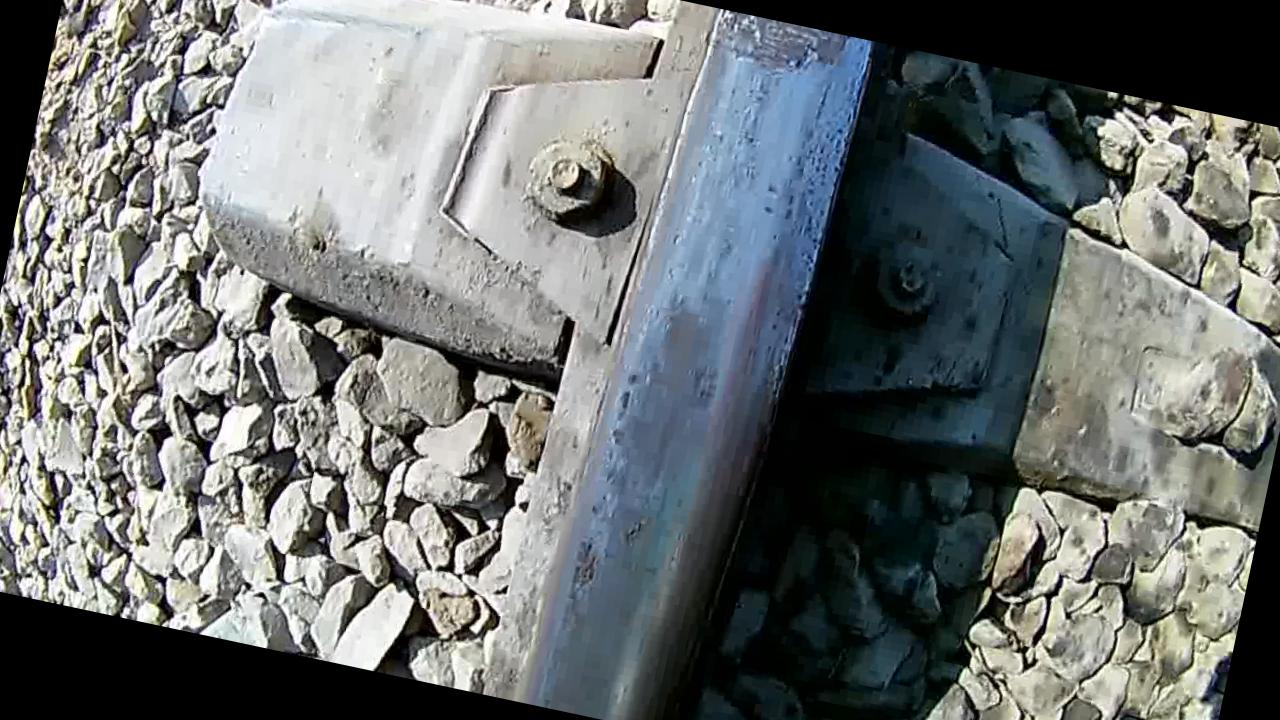crack: (531, 1, 875, 720)
